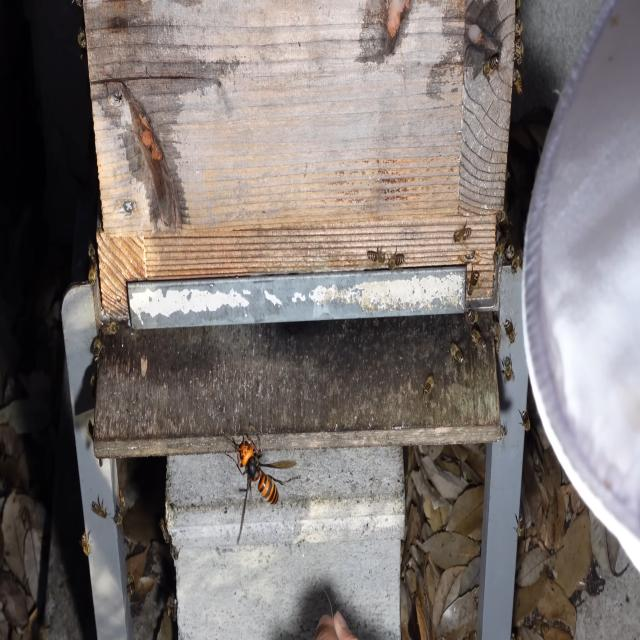Bees: (500, 350, 516, 387), (366, 243, 386, 272), (507, 247, 524, 281), (492, 233, 508, 267), (481, 50, 500, 78), (386, 248, 406, 274), (469, 328, 487, 356), (452, 220, 472, 244), (503, 315, 518, 347), (91, 494, 108, 522), (466, 265, 480, 298), (514, 511, 526, 545), (80, 528, 93, 559), (102, 317, 120, 339), (448, 338, 463, 364), (424, 372, 435, 403), (512, 67, 523, 98), (87, 260, 98, 290), (492, 321, 502, 354), (513, 37, 524, 65), (92, 336, 102, 364)
Hornets: (223, 424, 301, 544)
